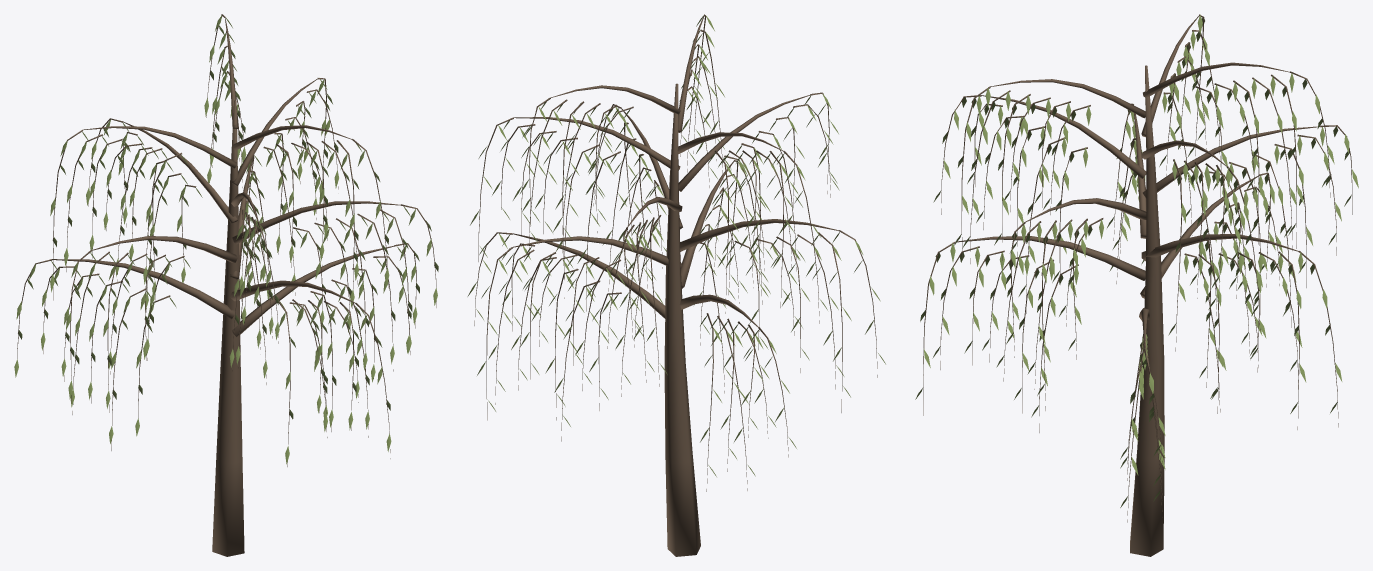
The model's file is willow-lod2.glb.
3 views of the same model, side by side, from view 1: azimuth 30°, elevation 25°; view 2: azimuth 150°, elevation 25°; view 3: azimuth 270°, elevation 25° (orthographic). The views are drawn at different scales.
Visible parts, largest first — view 1: rooted trunk and branch hierarchy, three dimensional leaves; view 2: rooted trunk and branch hierarchy, three dimensional leaves; view 3: rooted trunk and branch hierarchy, three dimensional leaves.
Part boxes in pixels (x1=…): rooted trunk and branch hierarchy: x1=17, y1=14, x2=436, y2=556; three dimensional leaves: x1=14, y1=15, x2=438, y2=464; rooted trunk and branch hierarchy: x1=474, y1=14, x2=877, y2=556; three dimensional leaves: x1=467, y1=15, x2=885, y2=476; rooted trunk and branch hierarchy: x1=923, y1=14, x2=1352, y2=556; three dimensional leaves: x1=915, y1=14, x2=1358, y2=507.
Bounding box in the file's own units: 5.86 × 6.98 × 5.49.
